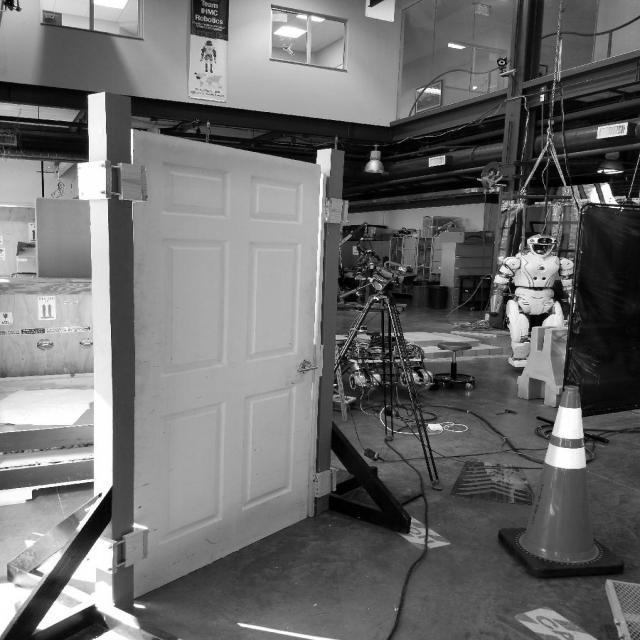door: (126, 124, 322, 605), (292, 358, 317, 376)
